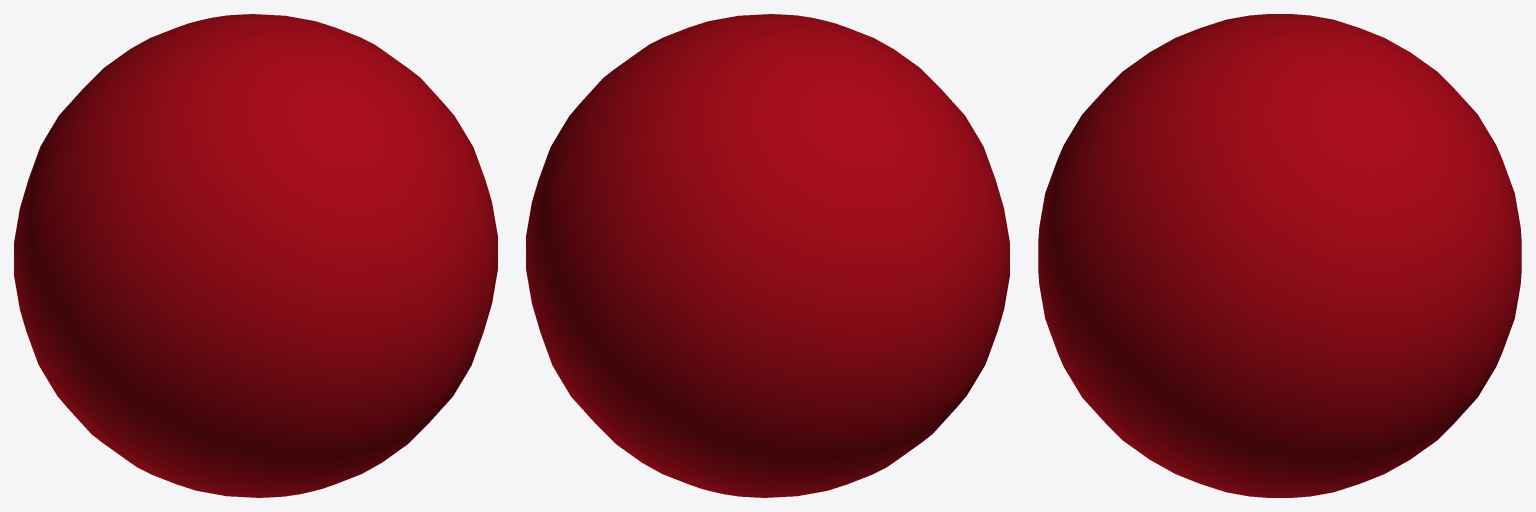
3 views of the same model, side by side, from view 1: azimuth 30°, elevation 25°; view 2: azimuth 150°, elevation 25°; view 3: azimuth 270°, elevation 25° (orthographic).
Parts seen in each view (by area): view 1: SurfSphere; view 2: SurfSphere; view 3: SurfSphere.
Boxes of the visible parts, x1,y1,x2,y2 form: SurfSphere: (14, 14, 497, 497); SurfSphere: (526, 14, 1009, 497); SurfSphere: (1038, 14, 1521, 497).
Bounding box in the file's own units: 1.99 × 2 × 1.99.
